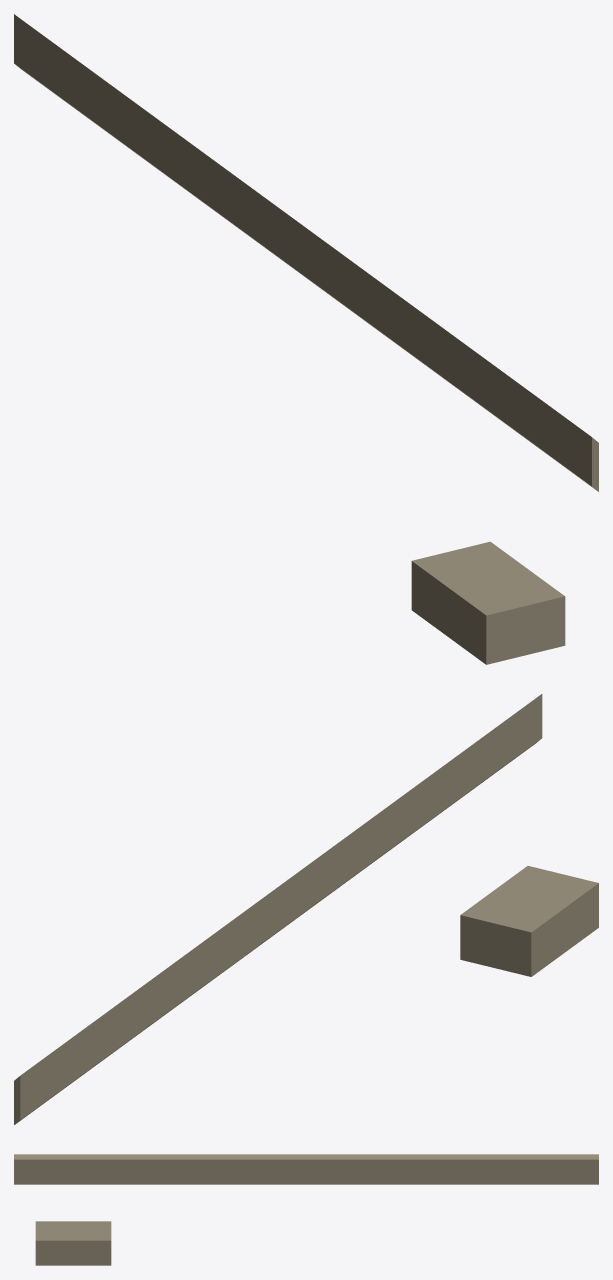
The model's file is flopy_001.obj.
3 views of the same model, one above another, from view 1: azimuth 30°, elevation 25°; view 2: azimuth 150°, elevation 25°; view 3: azimuth 270°, elevation 25° (orthographic). The views are drawn at different scales.
Bounding box in the file's own units: 0.000619 × 0.00145 × 0.00679.
